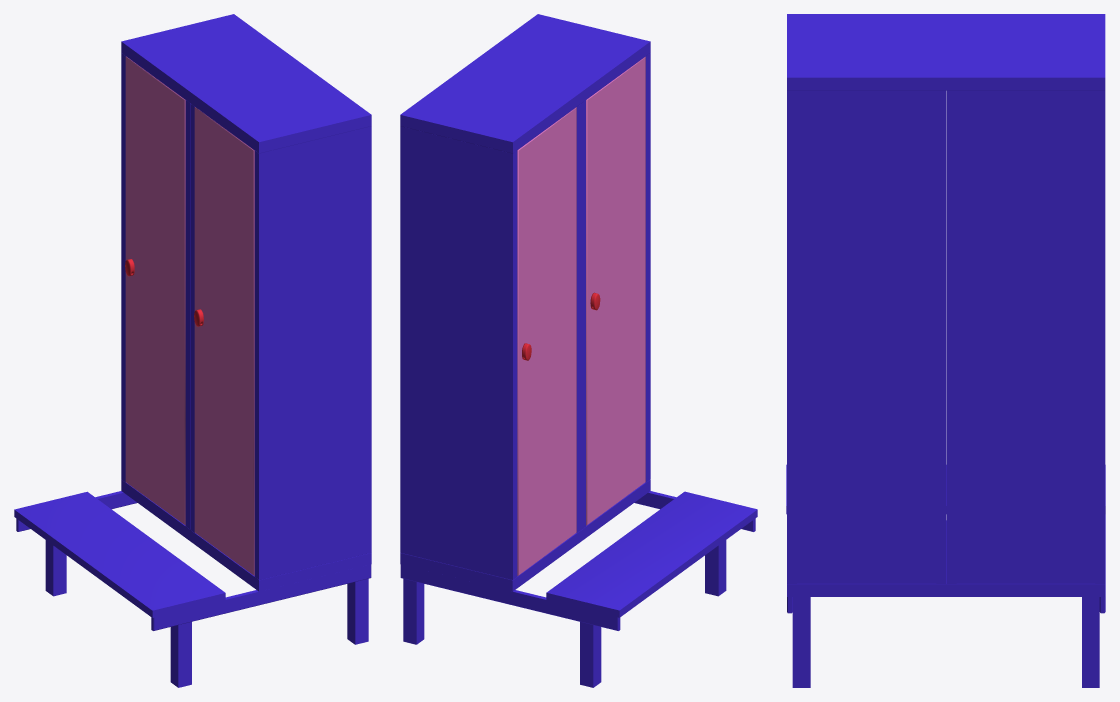
File: Locker.fbx
The picture shows the model from 3 angles, left to right: view 1: azimuth 30°, elevation 25°; view 2: azimuth 150°, elevation 25°; view 3: azimuth 270°, elevation 25°; orthographic projection. The views are drawn at different scales.
Visible parts, largest first — view 1: Locker, Locker.001, Locker.002; view 2: Locker, Locker.001, Locker.002; view 3: Locker.
Boxes of the visible parts, <box> form: Locker: <box>14,14,371,687</box>; Locker.001: <box>125,56,185,525</box>; Locker.002: <box>194,107,254,575</box>; Locker: <box>400,14,757,687</box>; Locker.001: <box>517,107,576,575</box>; Locker.002: <box>586,56,645,525</box>; Locker: <box>786,14,1105,687</box>.
Size of the model in its own units: 84.92 by 195 by 92.61.
